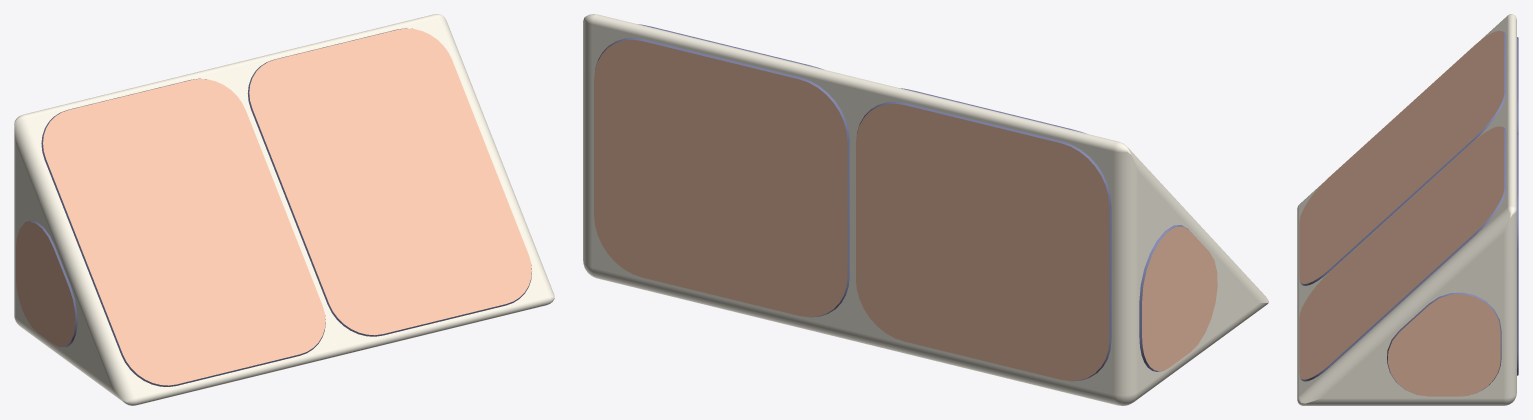
File: R4B_WideWedge.fbx
3 views of the same model, side by side, from view 1: azimuth 30°, elevation 25°; view 2: azimuth 150°, elevation 25°; view 3: azimuth 270°, elevation 25° (orthographic). The views are drawn at different scales.
Parts seen in each view (by area): view 1: R4B_WideWedge; view 2: R4B_WideWedge; view 3: R4B_WideWedge.
Boxes of the visible parts, box(x1,y1,x2,y2) form: R4B_WideWedge: box(14, 14, 554, 405); R4B_WideWedge: box(583, 14, 1268, 405); R4B_WideWedge: box(1297, 14, 1518, 405).
Bounding box in the file's own units: 1.07 × 0.4928 × 0.4928.
